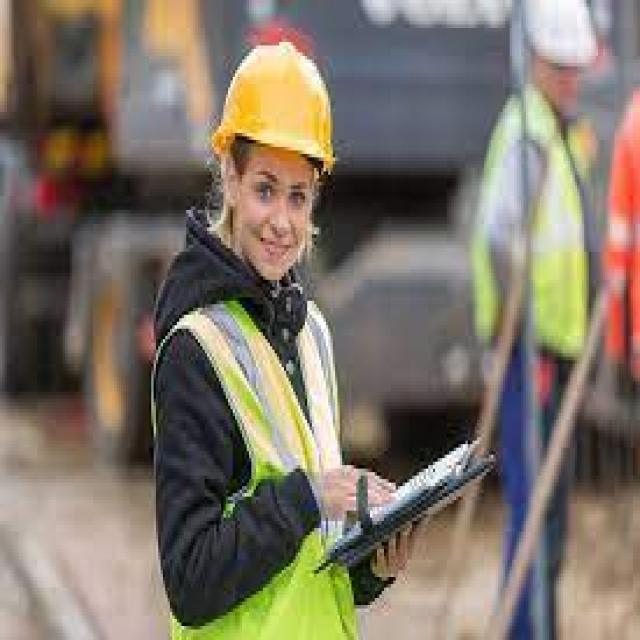Reflective-Jacket: (144, 280, 363, 633), (465, 84, 603, 385)
Safety-Helmet: (202, 35, 344, 182)
